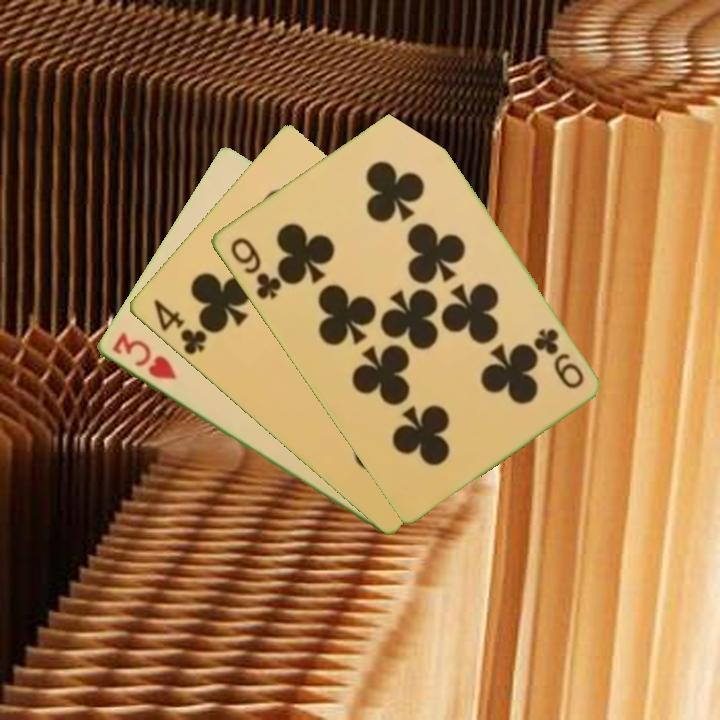3h: (108, 328, 179, 383)
4c: (149, 295, 210, 358)
9c: (226, 233, 284, 302), (530, 324, 587, 392)
